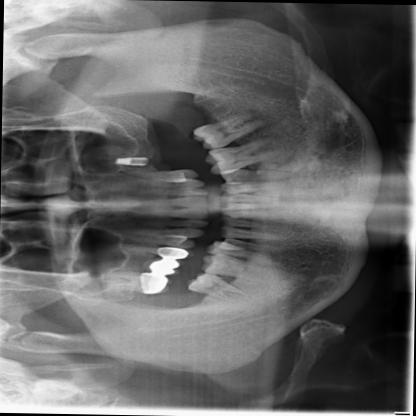Bicon: (110, 153, 150, 168)
